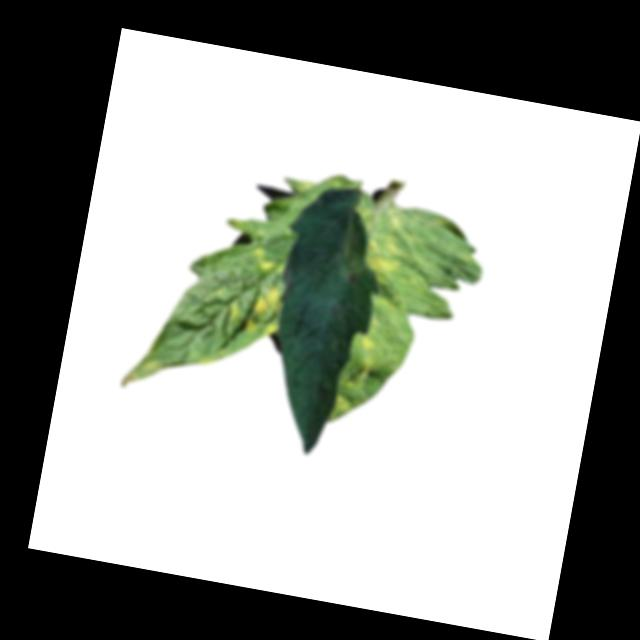Leaf_Mold: (223, 282, 285, 340), (360, 235, 406, 274), (247, 243, 280, 278)
